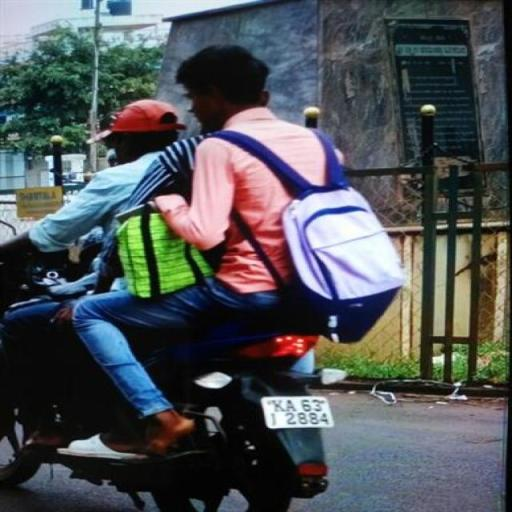tripple riding: (3, 39, 409, 394)
